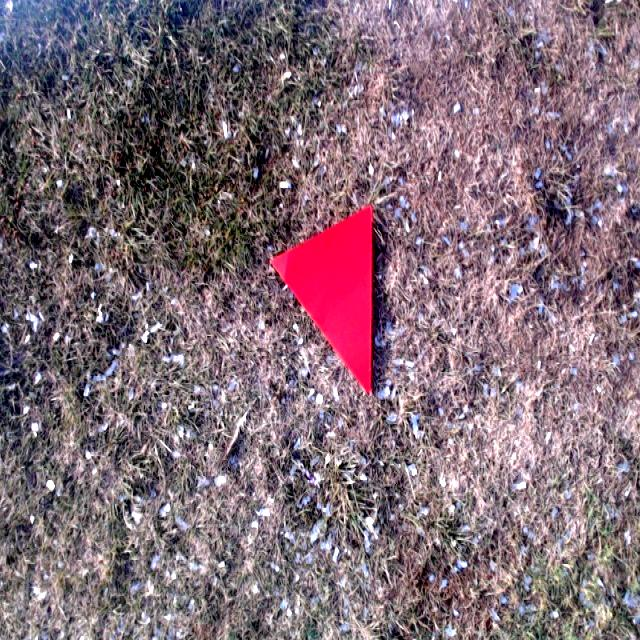red_triangle: (272, 202, 372, 392)
